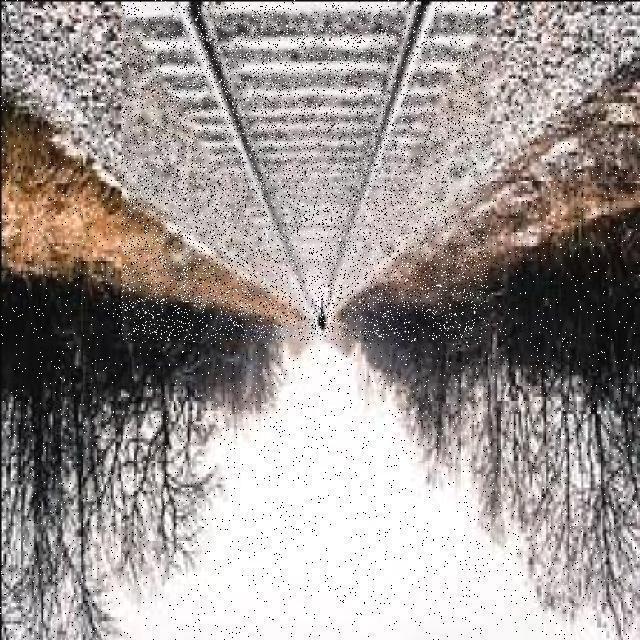rail: (123, 6, 489, 341)
